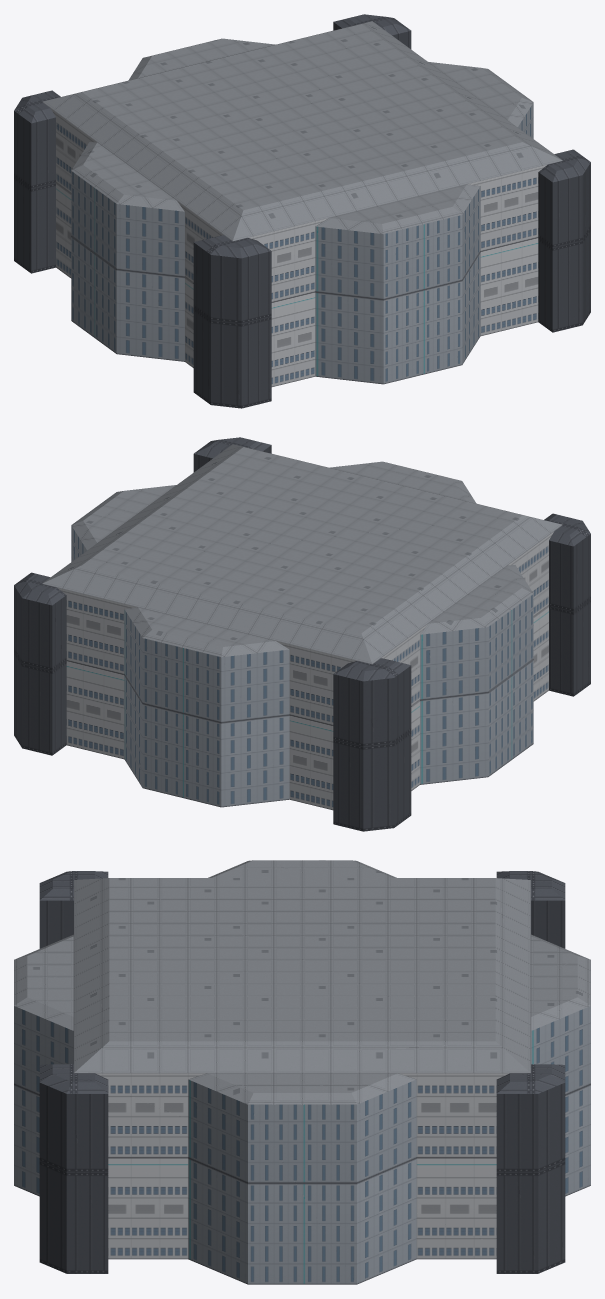
File: BLD_TOP_W_Cap.fbx
3 views of the same model, one above another, from view 1: azimuth 30°, elevation 25°; view 2: azimuth 150°, elevation 25°; view 3: azimuth 270°, elevation 25° (orthographic). The views are drawn at different scales.
Parts seen in each view (by area): view 1: BLD_TOP_W_Cap; view 2: BLD_TOP_W_Cap; view 3: BLD_TOP_W_Cap.
Boxes of the visible parts, bbox=[...] form: BLD_TOP_W_Cap: bbox=[14, 14, 590, 408]; BLD_TOP_W_Cap: bbox=[14, 437, 590, 831]; BLD_TOP_W_Cap: bbox=[14, 860, 590, 1284].
Bounding box in the file's own units: 126 × 49 × 126.
